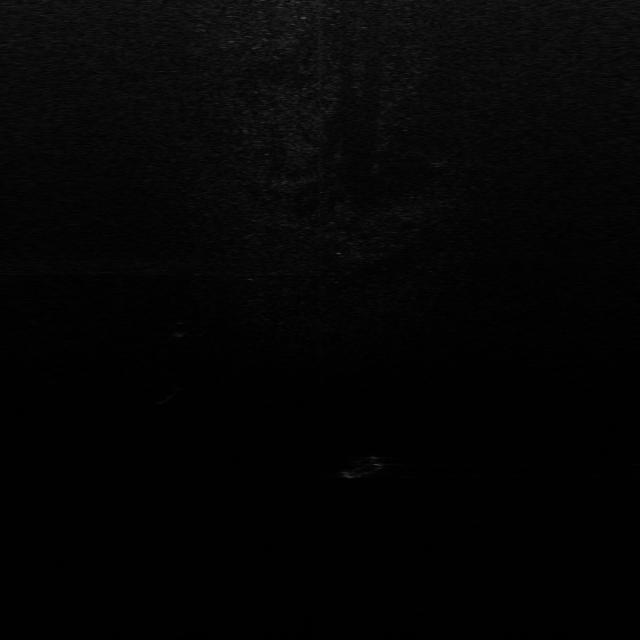ball: (172, 375, 199, 392)
circle cage: (168, 319, 194, 338)
tyre: (342, 456, 386, 479)
